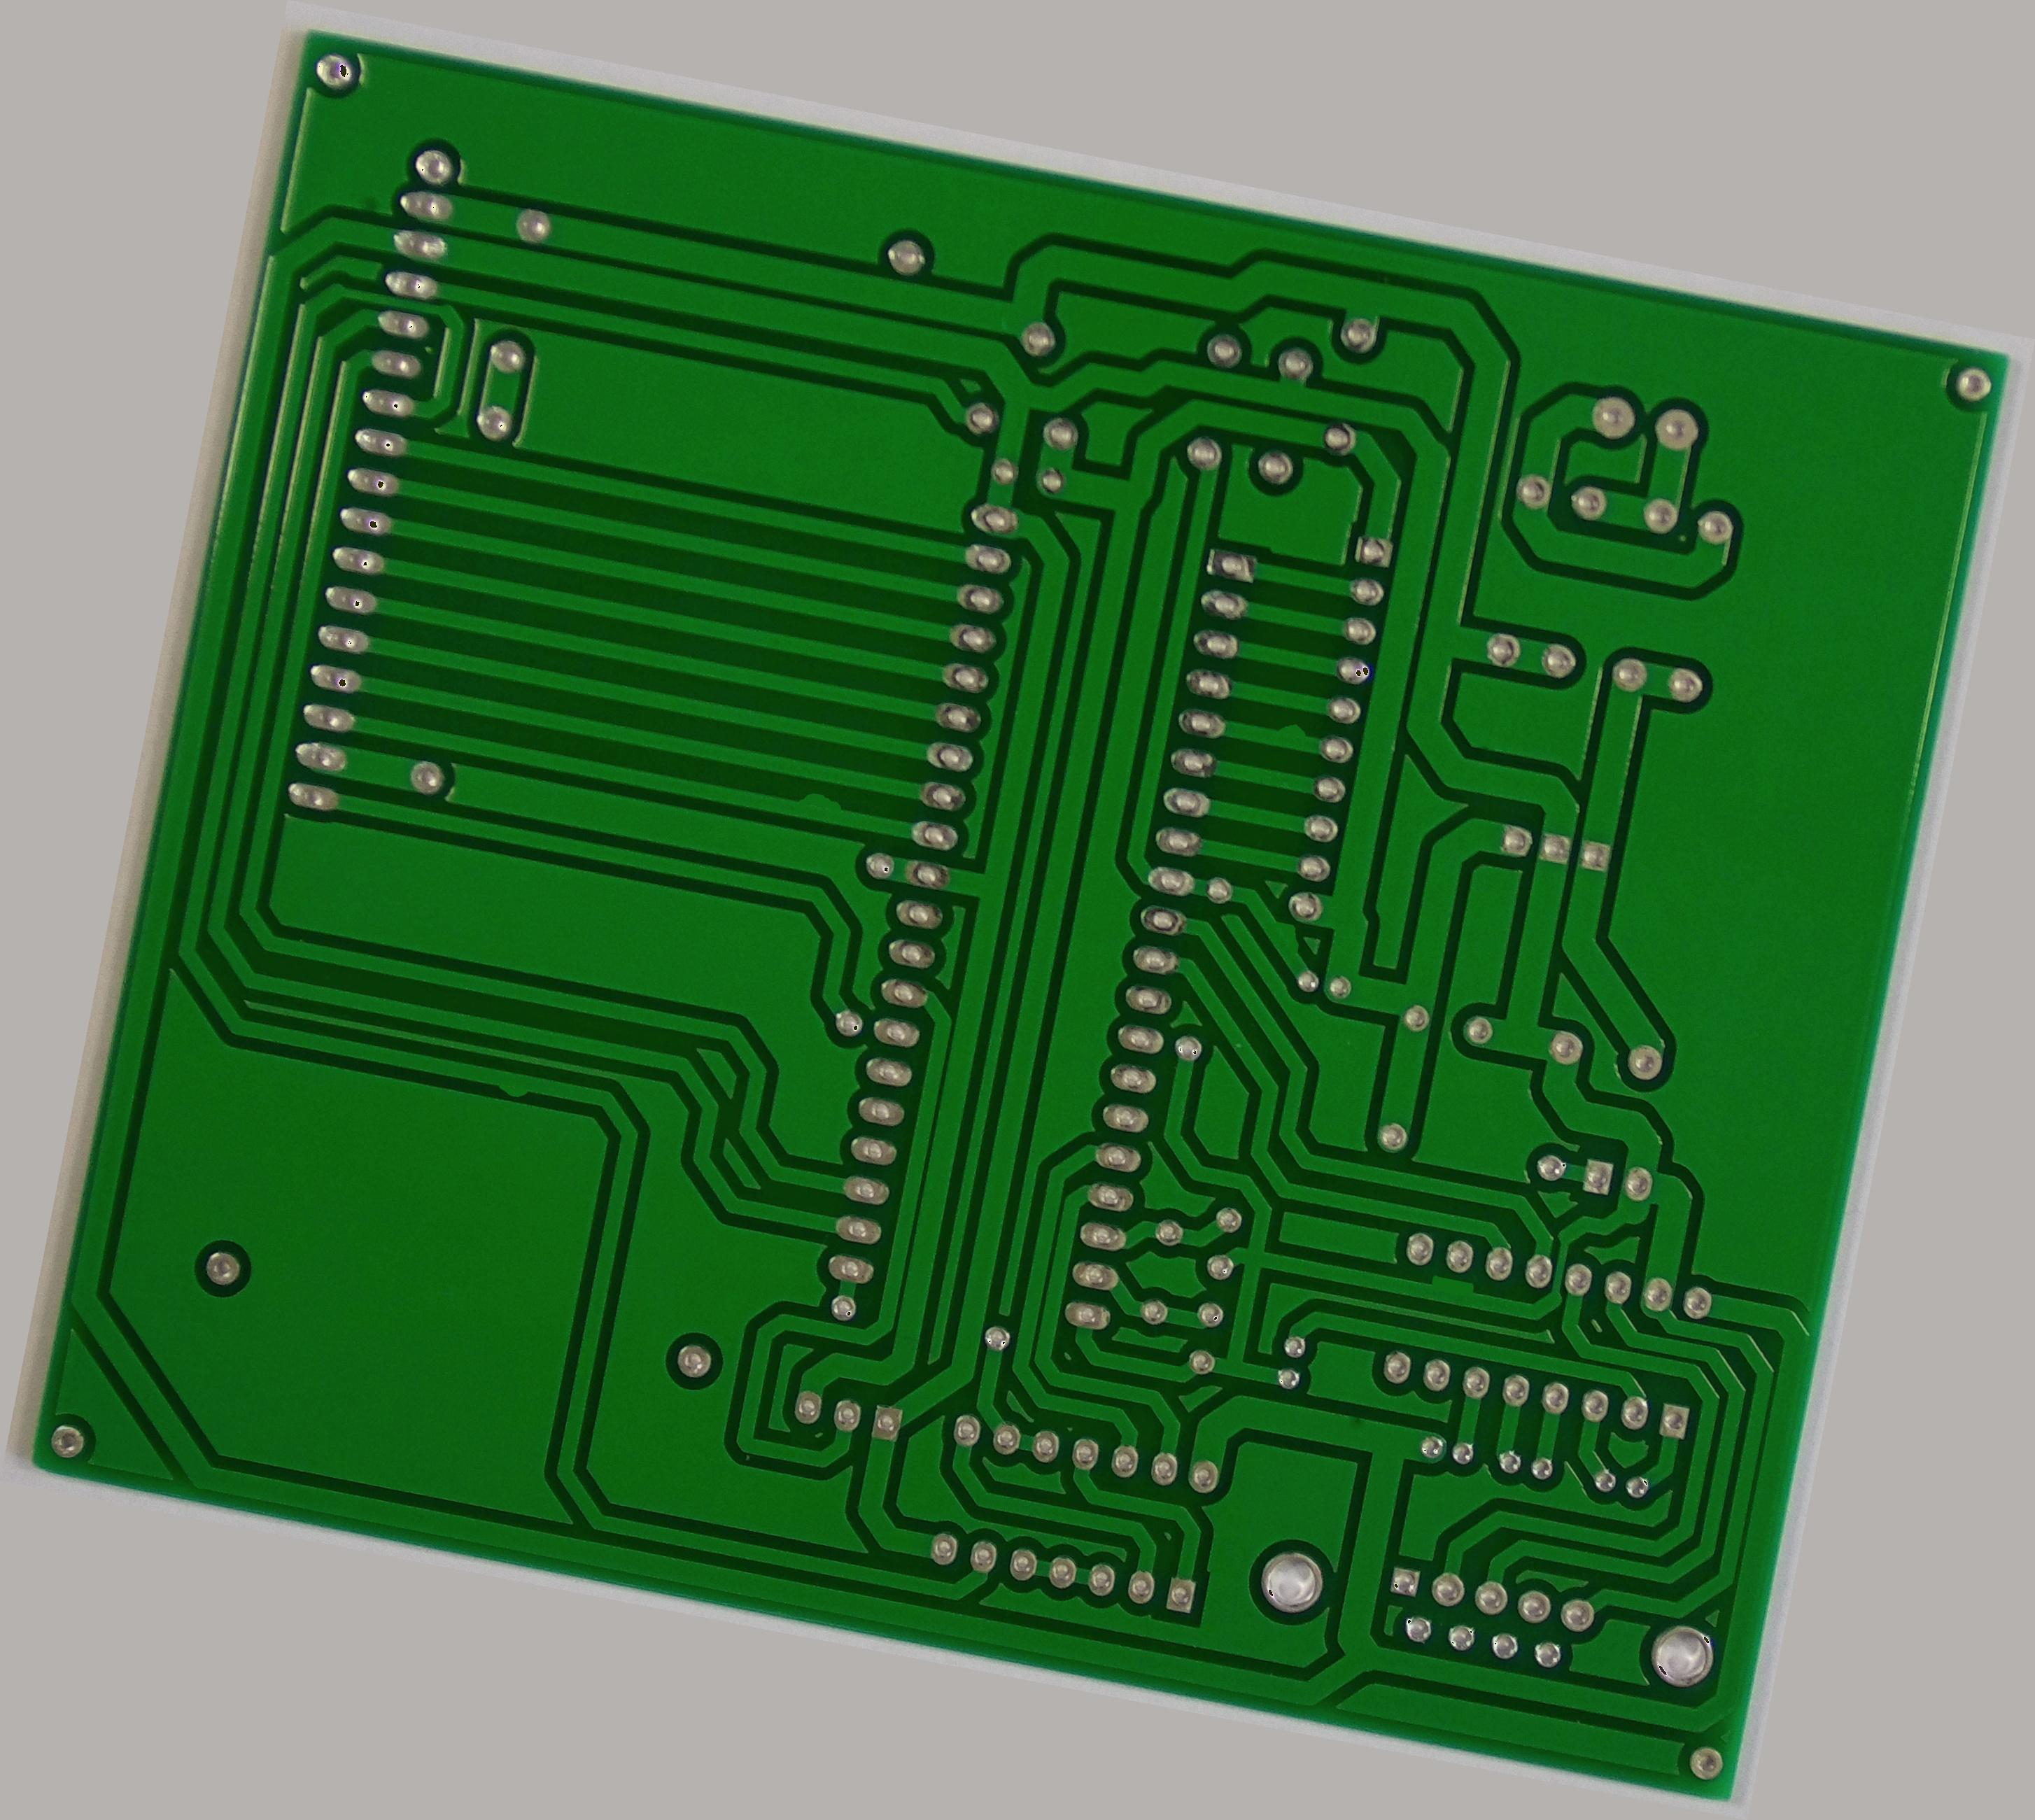spur: (784, 780, 856, 829), (1255, 912, 1313, 961), (1423, 1265, 1481, 1304), (487, 1065, 538, 1109), (1267, 708, 1316, 750)
